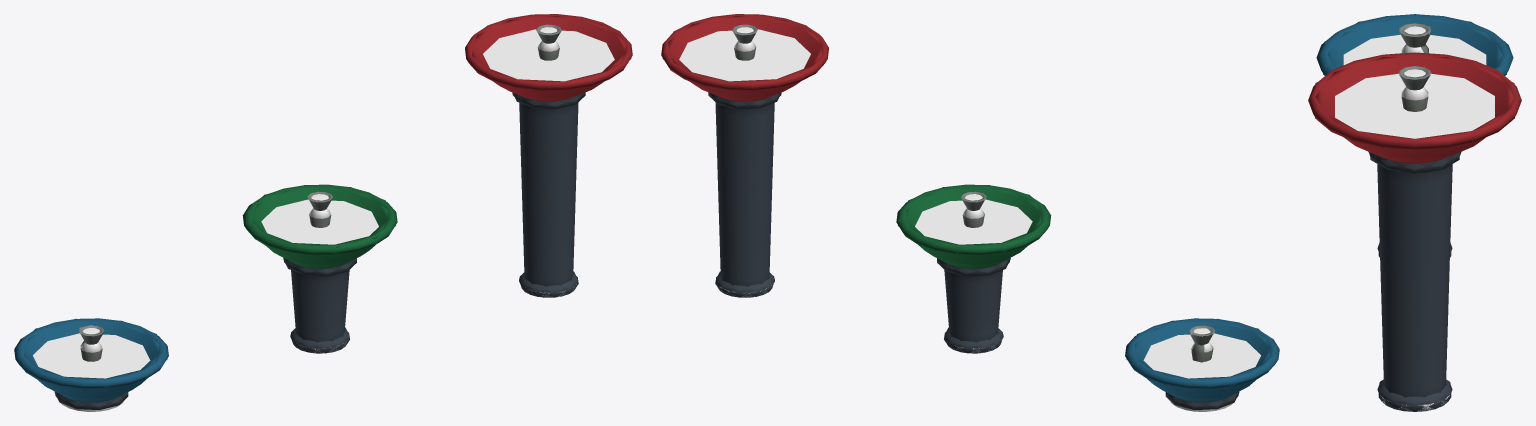
Rendered from objects_un_pobjwaterplace01.gltf.
3 renders of one model, left to right at view 1: azimuth 30°, elevation 25°; view 2: azimuth 150°, elevation 25°; view 3: azimuth 270°, elevation 25°, orthographic. The views are drawn at different scales.
Parts seen in each view (by area): view 1: um_objects_un_pobjwaterplace01_model_lod0Shape:objects_un_po (×2), um_objects_un_pobjwaterplace01_model_lod2Shape:objects_un_po, um_objects_un_pobjwaterplace01_model_lod1Shape:objects_un_po; view 2: um_objects_un_pobjwaterplace01_model_lod0Shape:objects_un_po (×2), um_objects_un_pobjwaterplace01_model_lod2Shape:objects_un_po (×2), um_objects_un_pobjwaterplace01_model_lod1Shape:objects_un_po; view 3: um_objects_un_pobjwaterplace01_model_lod0Shape:objects_un_po (×3), um_objects_un_pobjwaterplace01_model_lod2Shape:objects_un_po (×2), um_objects_un_pobjwaterplace01_model_lod1Shape:objects_un_po.
Boxes of the visible parts, x1=… form: um_objects_un_pobjwaterplace01_model_lod0Shape:objects_un_po (×2): x1=14, y1=14, x2=632, y2=411; um_objects_un_pobjwaterplace01_model_lod2Shape:objects_un_po: x1=33, y1=29, x2=614, y2=378; um_objects_un_pobjwaterplace01_model_lod1Shape:objects_un_po: x1=16, y1=16, x2=631, y2=409; um_objects_un_pobjwaterplace01_model_lod0Shape:objects_un_po (×2): x1=661, y1=14, x2=1279, y2=411; um_objects_un_pobjwaterplace01_model_lod2Shape:objects_un_po (×2): x1=679, y1=29, x2=1267, y2=392; um_objects_un_pobjwaterplace01_model_lod1Shape:objects_un_po: x1=662, y1=16, x2=1277, y2=409; um_objects_un_pobjwaterplace01_model_lod0Shape:objects_un_po (×3): x1=1308, y1=14, x2=1521, y2=411; um_objects_un_pobjwaterplace01_model_lod2Shape:objects_un_po (×2): x1=1335, y1=26, x2=1494, y2=153; um_objects_un_pobjwaterplace01_model_lod1Shape:objects_un_po: x1=1315, y1=14, x2=1514, y2=411.
Size of the model in its own units: 2.61 by 1.07 by 0.64.
3 materials, 1 textured.
